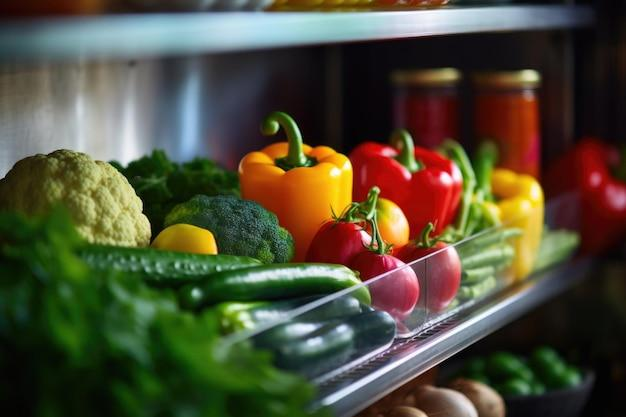bell pepper: (241, 119, 349, 242), (349, 125, 471, 228), (547, 124, 626, 270)
brocolli: (107, 122, 293, 267)
cauliflower: (0, 129, 170, 265)
